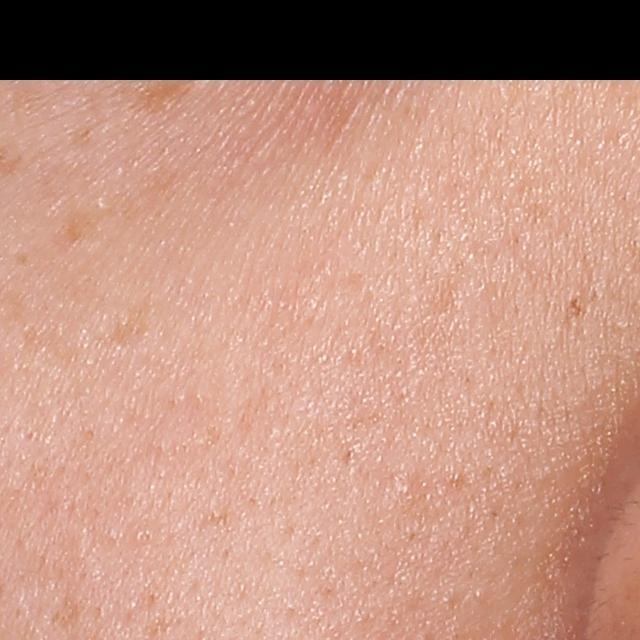melasma: (118, 58, 205, 122), (105, 307, 149, 347), (567, 292, 584, 320)
